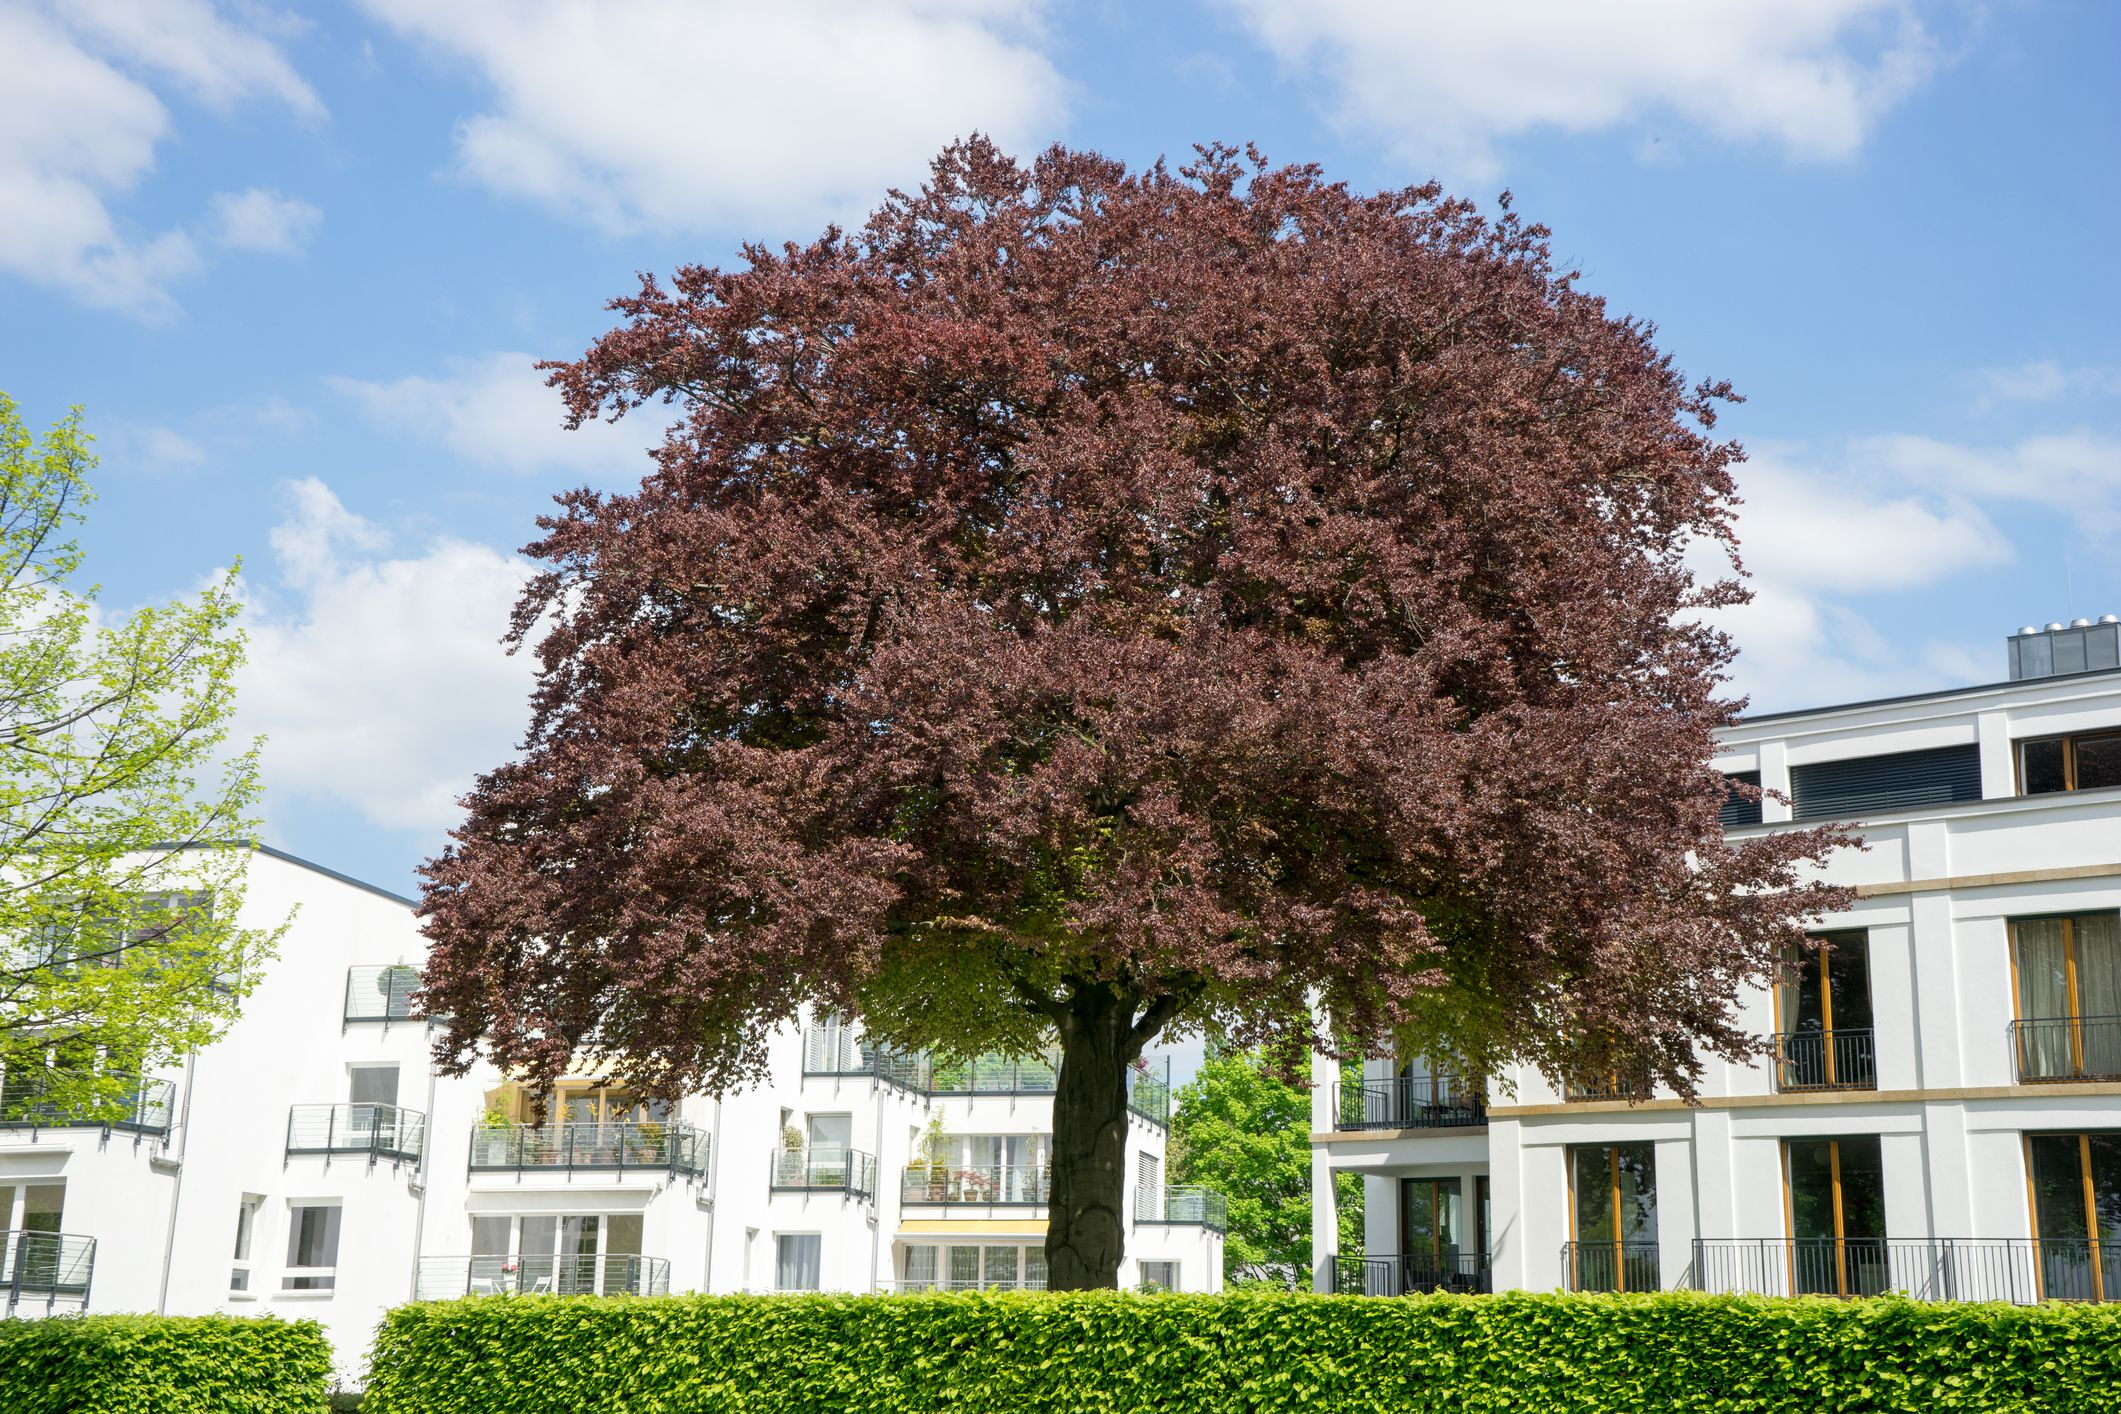bush: (369, 1285, 2121, 1414), (2, 1308, 327, 1414)
tree: (450, 128, 1766, 1289)
